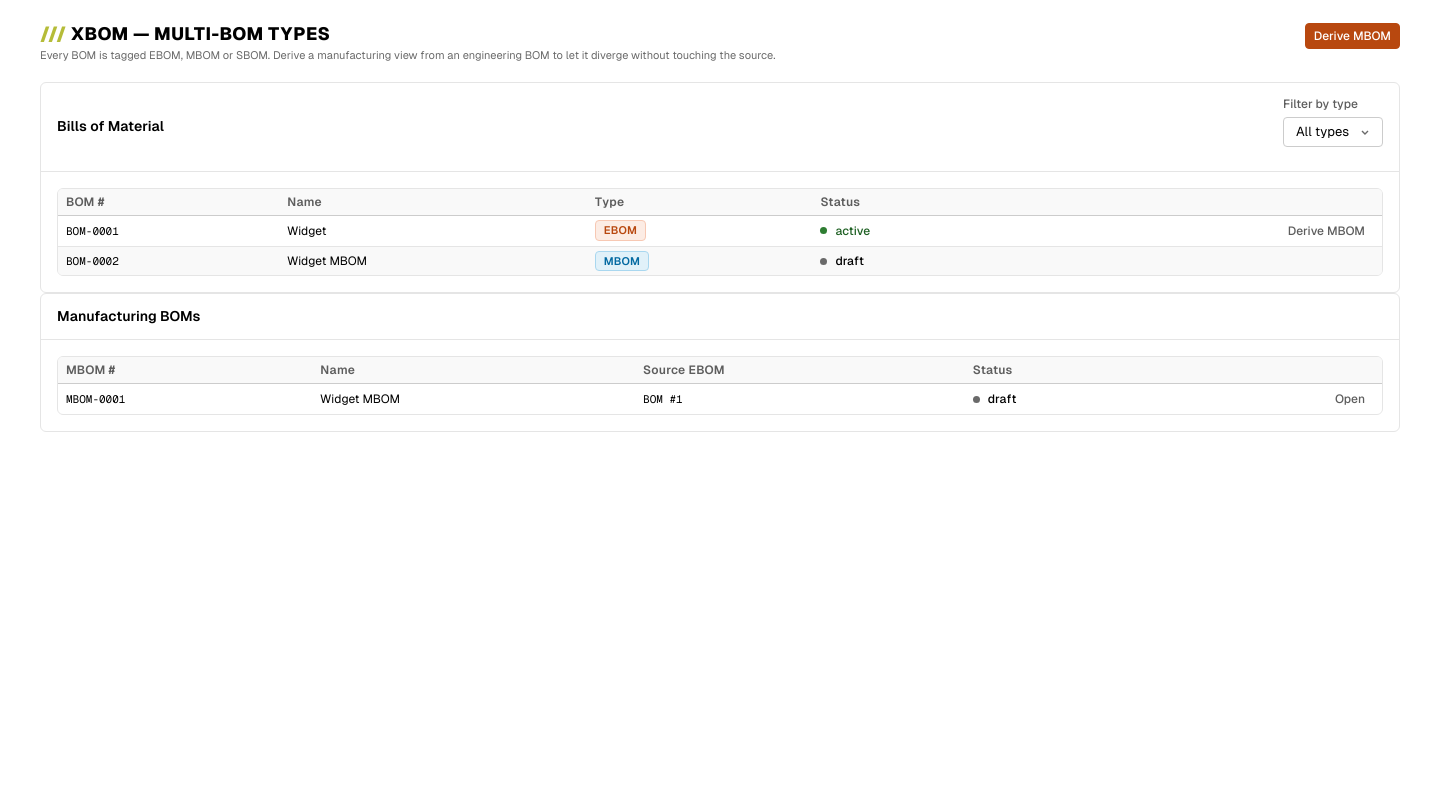
Test: MbomScreen › shows the failure instead of a fabricated success when derive fails
This screenshot has width=1440, height=810.
Check: the text "BOM-0001" is shown, box [66,224,119,236]
Click the button "Derive MBOM" in the row of "active" at (1326, 230), box [1279,220,1374,242]
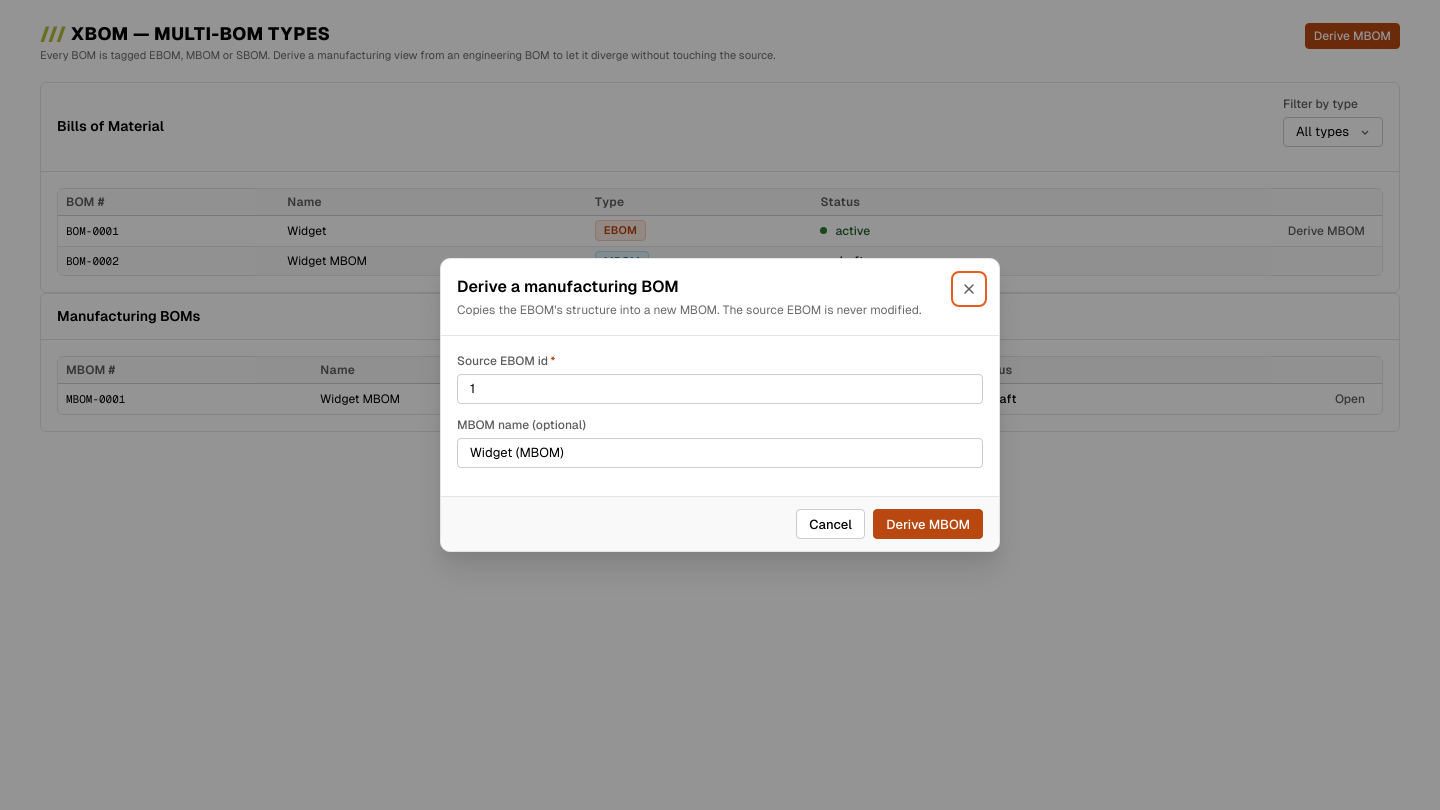
Click the button "Derive MBOM" at (928, 524), box [873,509,983,539]
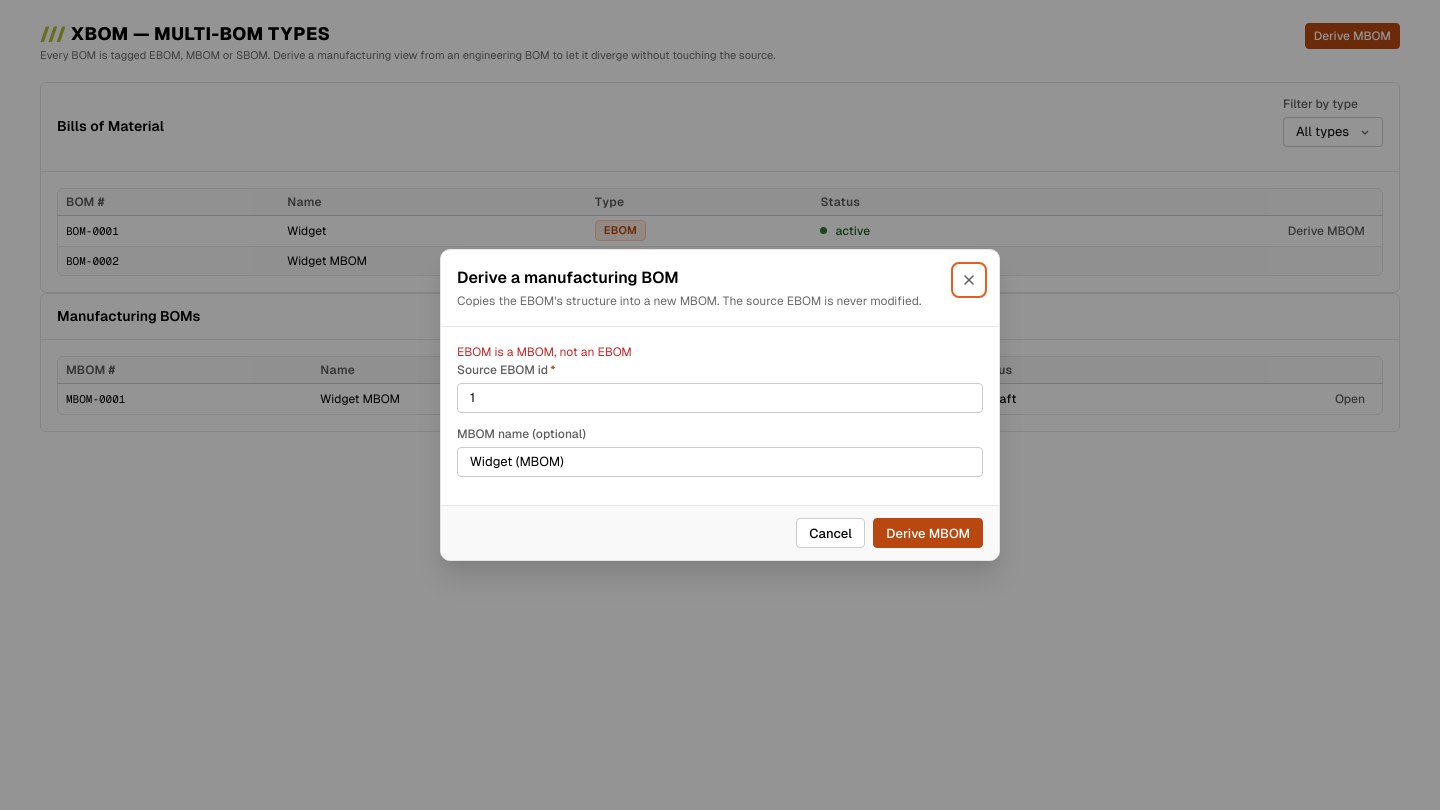
Check: the dialog is shown, box [440,249,1000,561]
Check: the message reads "EBOM is a MBOM, not an EBOM", box [457,345,632,359]
